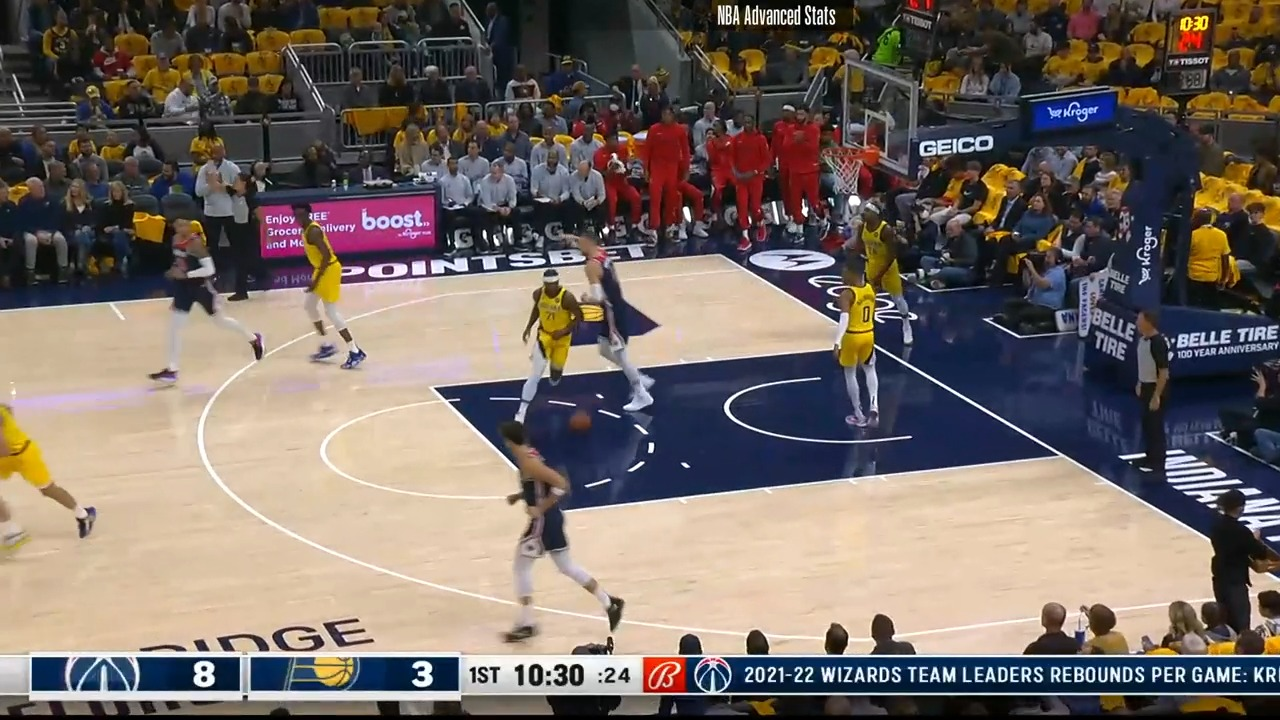net: (822, 142, 882, 197)
player: (497, 427, 630, 654), (146, 215, 259, 392), (554, 228, 657, 417), (0, 363, 98, 553), (289, 198, 369, 374), (513, 265, 585, 440), (826, 261, 888, 437), (856, 201, 919, 349)
referee: (1124, 304, 1175, 483), (215, 163, 269, 307)
